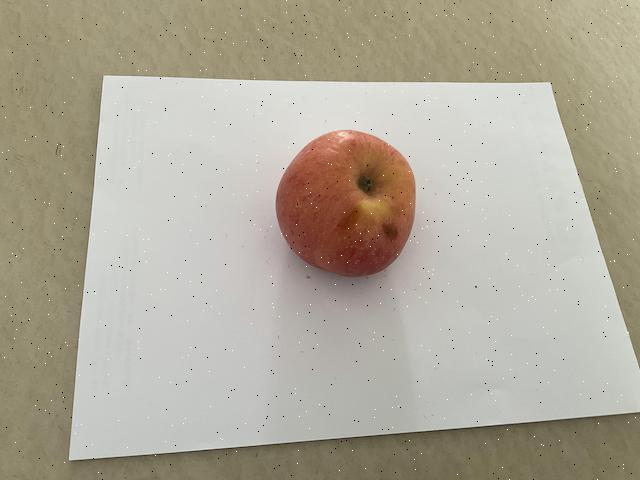apple: (272, 123, 421, 280)
